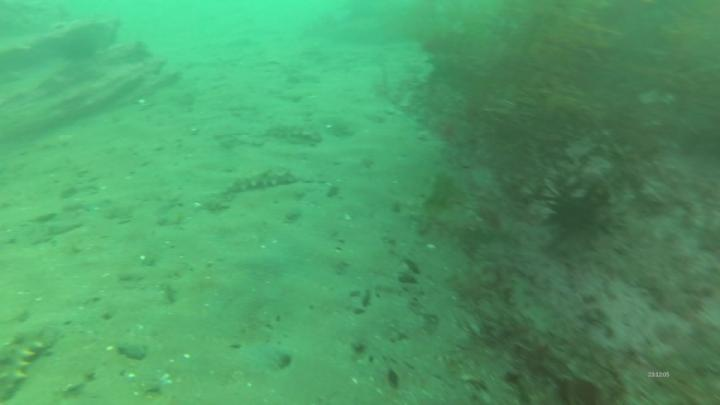echinus: (537, 176, 622, 254)
holothurian: (6, 323, 49, 405), (229, 172, 302, 193)
waterweeds: (428, 3, 720, 145)
